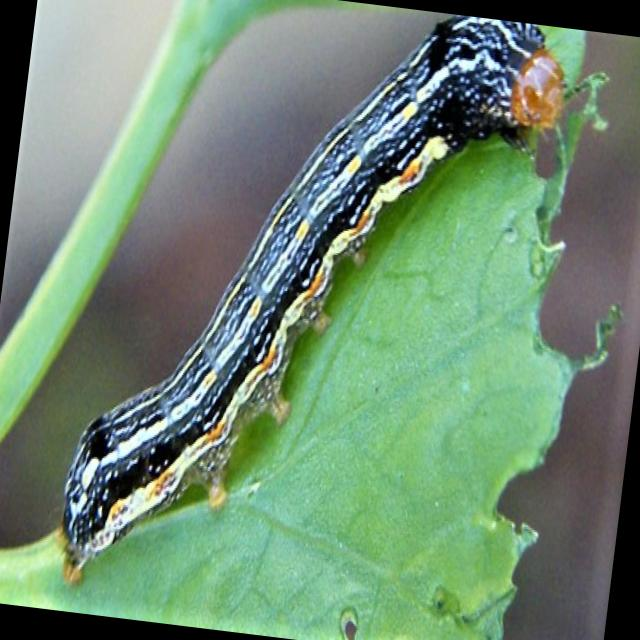Armyworm: (32, 1, 576, 640)
